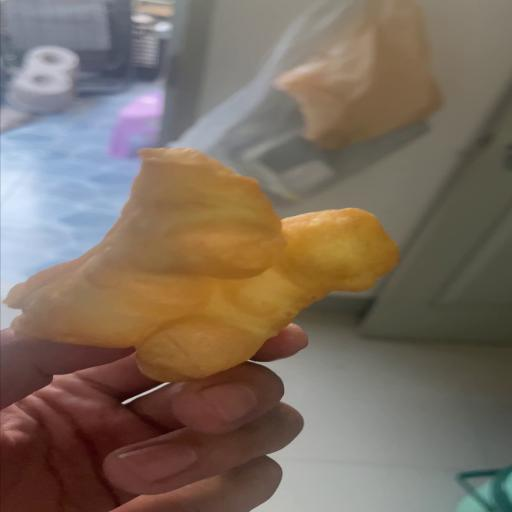street_golden_good: (4, 149, 398, 381)
